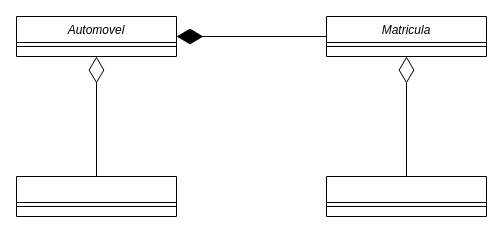
This 503x233 diagram has some shape labels left out. Here are the shapes that lost their labels. From the top down, the centre of each, then its label:
At [96,196]: "Pessoa".
At [406,196]: "Data".
